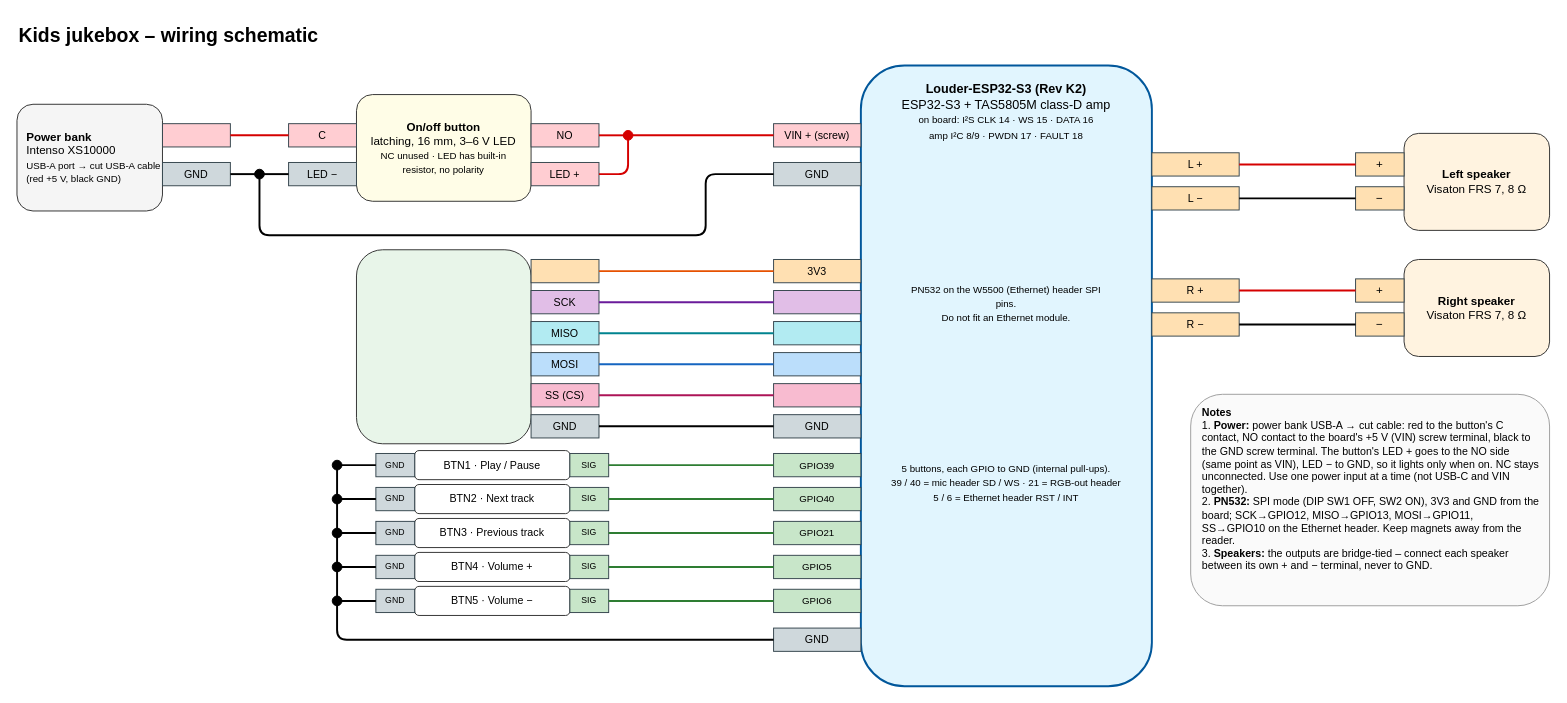
The diagram is 1567 pixels wide and 703 high, and some of its shapes have lost their labels. The centre of each missing label's shape, as x and y in pixels:
"+5V" goes at (x=196, y=135).
"GPIO10 CS" goes at (x=817, y=395).
"GPIO11 MOSI" goes at (x=817, y=364).
"GPIO12 CLK" goes at (x=817, y=302).
"GPIO13 MISO" goes at (x=817, y=333).
"PN532 NFC V3 SPI mode: DIP SW1 = OFF SW2 = ON" goes at (x=443, y=346).
"VCC (3V3)" goes at (x=564, y=271).
